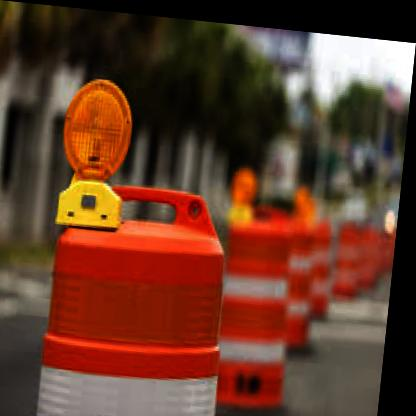obstacle: (34, 179, 252, 416)
